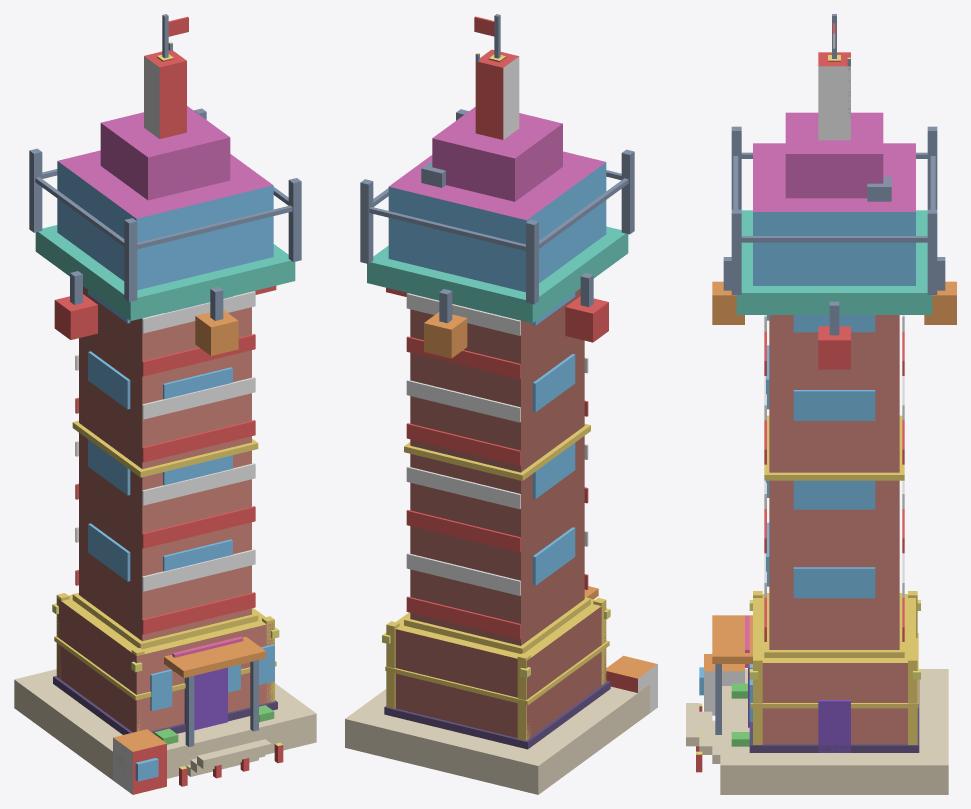
Rendered from AmusementTower.fbx.
The picture shows the model from 3 angles, left to right: view 1: azimuth 30°, elevation 25°; view 2: azimuth 150°, elevation 25°; view 3: azimuth 270°, elevation 25°; orthographic projection. The views are drawn at different scales.
Parts seen in each view (by area): view 1: AmusementTower; view 2: AmusementTower; view 3: AmusementTower.
Boxes of the visible parts, box(x1,y1,x2,y2) form: AmusementTower: box(14, 14, 316, 794); AmusementTower: box(345, 14, 657, 794); AmusementTower: box(686, 14, 956, 794).
Bounding box in the file's own units: 1500 × 4950 × 1660.
